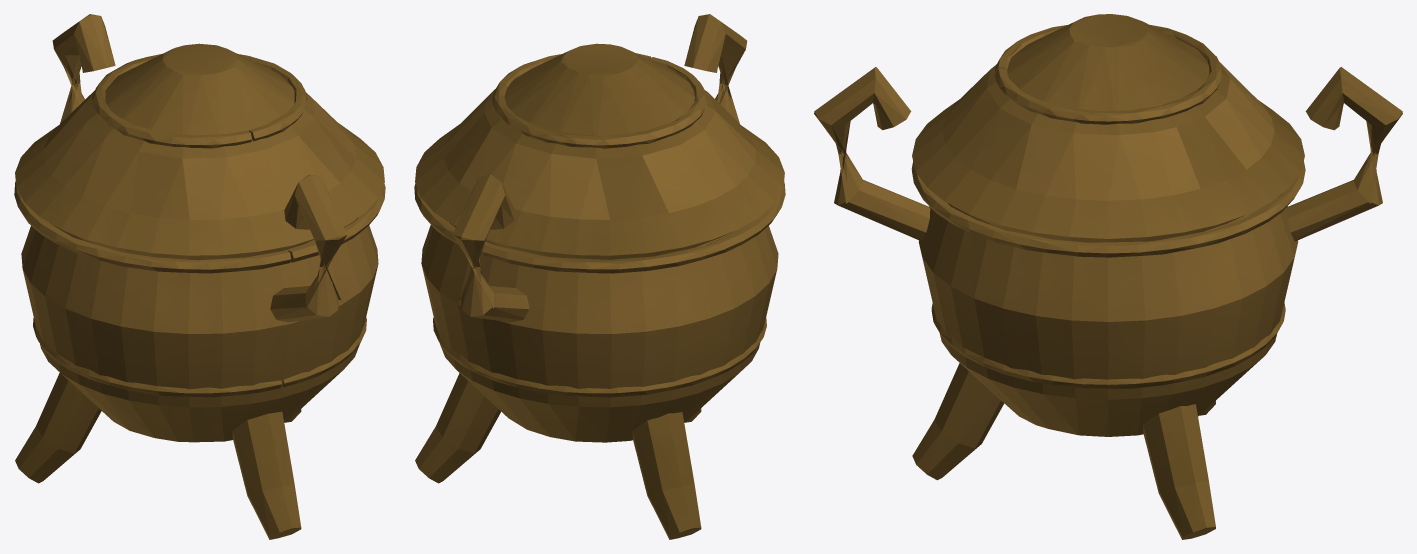
File: a03_censer_lod1.fbx
The picture shows the model from 3 angles, left to right: view 1: azimuth 30°, elevation 25°; view 2: azimuth 150°, elevation 25°; view 3: azimuth 270°, elevation 25°; orthographic projection. The views are drawn at different scales.
Visible parts, largest first — view 1: a03_censer.004; view 2: a03_censer.004; view 3: a03_censer.004.
Part boxes in pixels (x1,y1,x2,y2): a03_censer.004: [14, 14, 385, 539]; a03_censer.004: [414, 14, 785, 539]; a03_censer.004: [814, 14, 1402, 539].
Size of the model in its own units: 14891 by 9971 by 12481.
